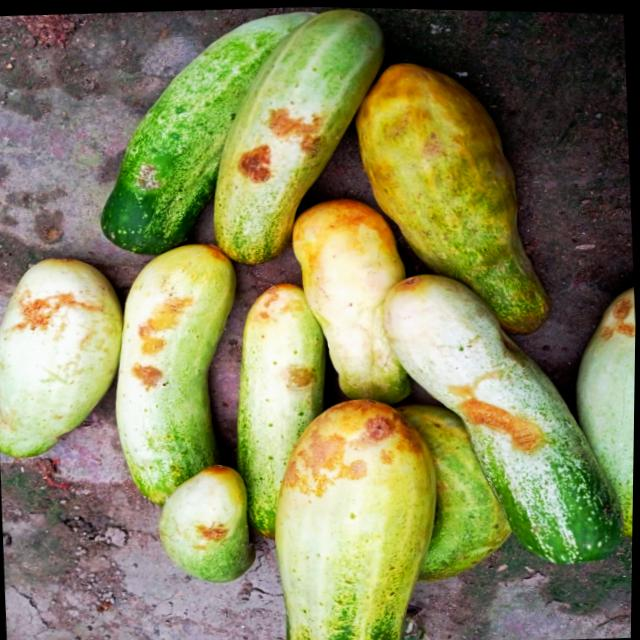Belly-Rot: (272, 393, 434, 506), (438, 320, 555, 463), (230, 92, 329, 189), (126, 283, 200, 399), (10, 279, 106, 346), (591, 285, 637, 343), (252, 281, 305, 329), (195, 511, 235, 560), (280, 356, 321, 392)
